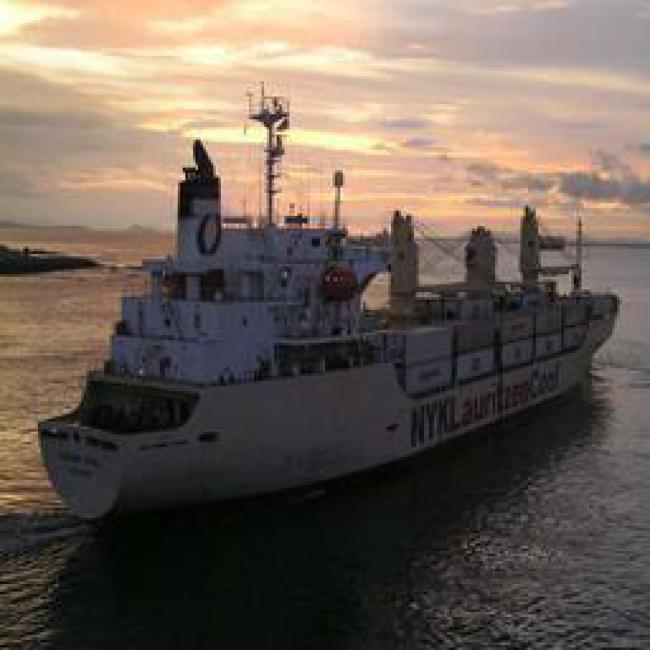Ship: (40, 164, 623, 462)
